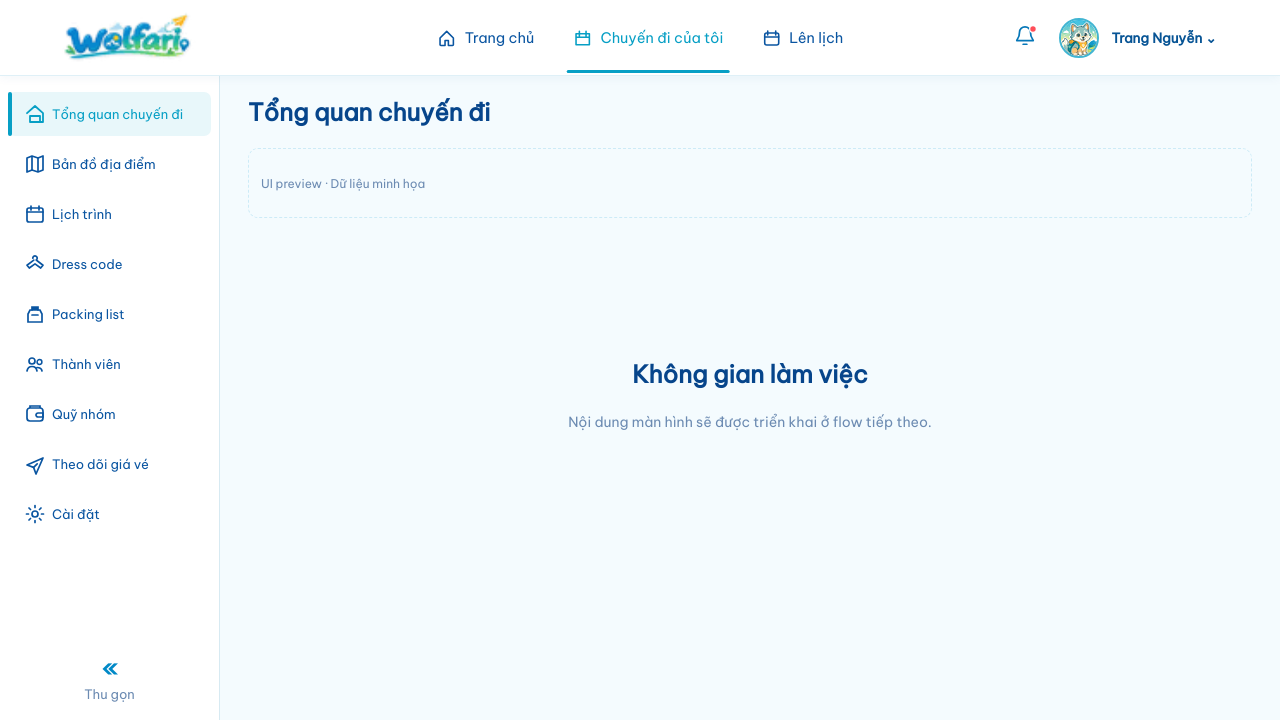
it: Shell interactions › toggles sidebar and changes section without claiming a mutation
Expected: the text "Trang Nguyễn ⌄" is shown, [1111,28,1217,48]
Click the link "Packing list" at (110, 314), box [8,292,211,336]
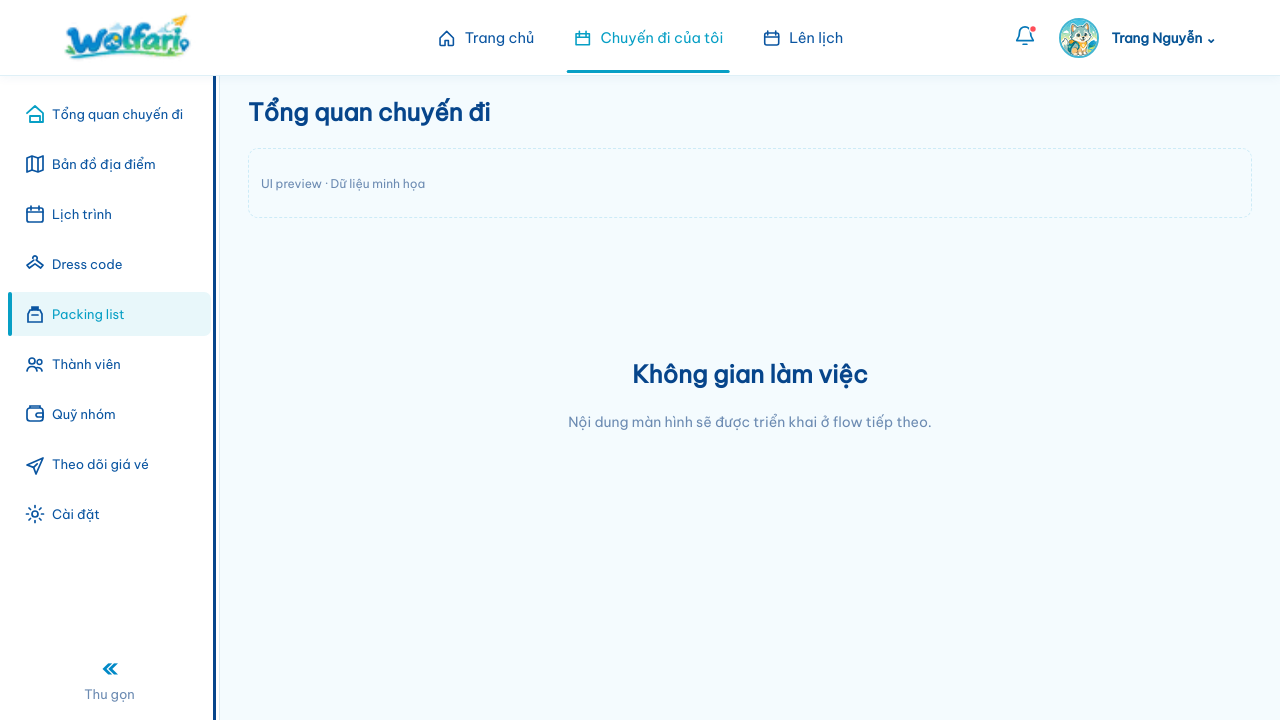
Click the link "Quỹ nhóm" at (110, 414), box [8,392,211,436]
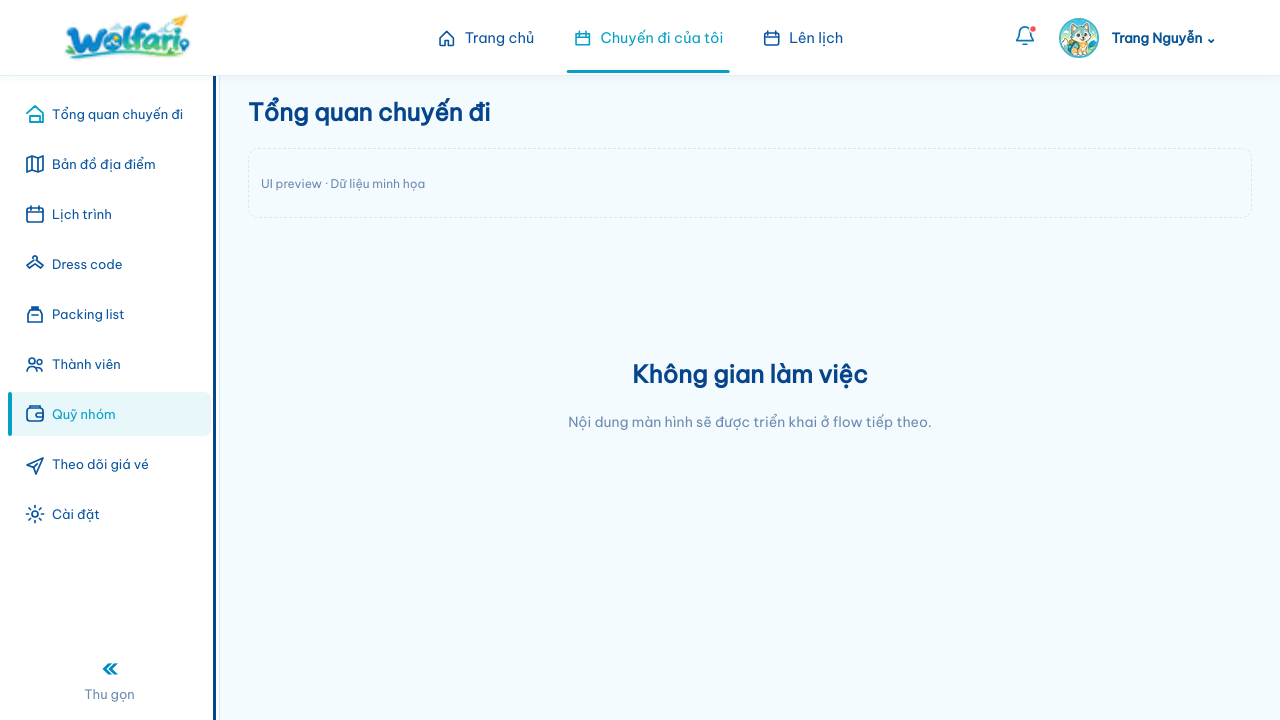
Click the link "Theo dõi giá vé" at (110, 464), box [8,442,211,486]
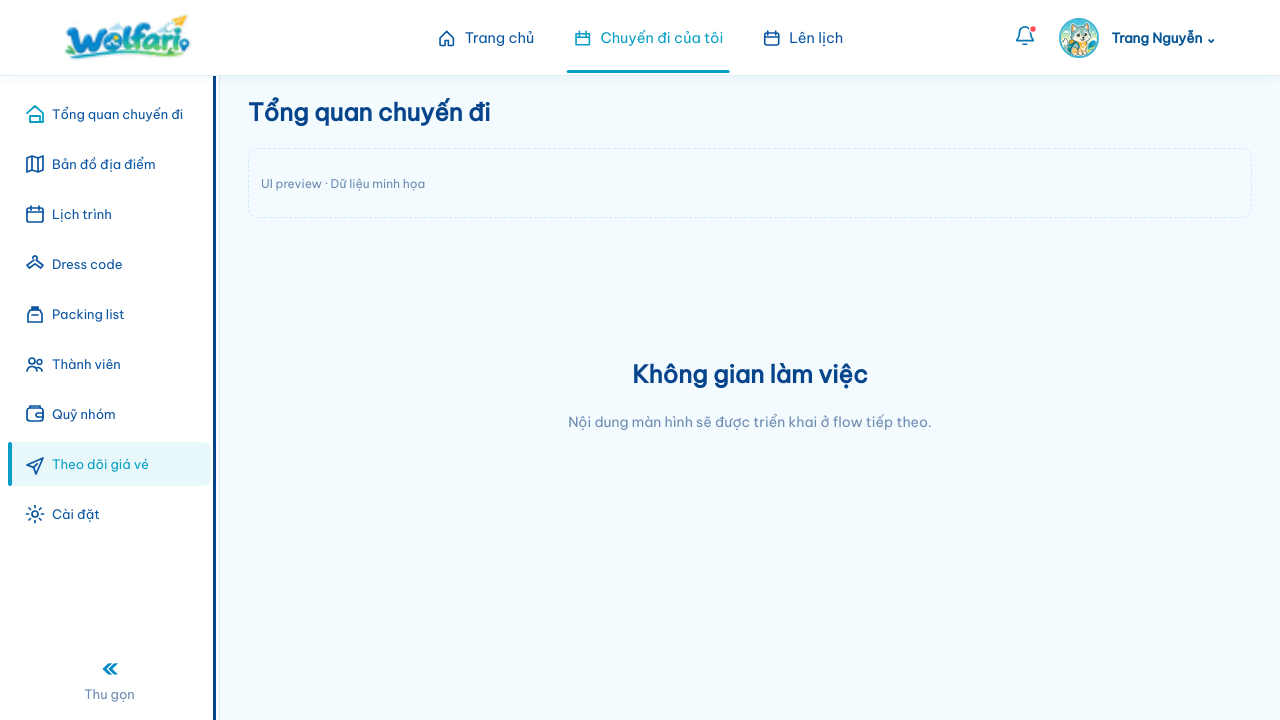
Click the link "Cài đặt" at (110, 514), box [8,492,211,536]
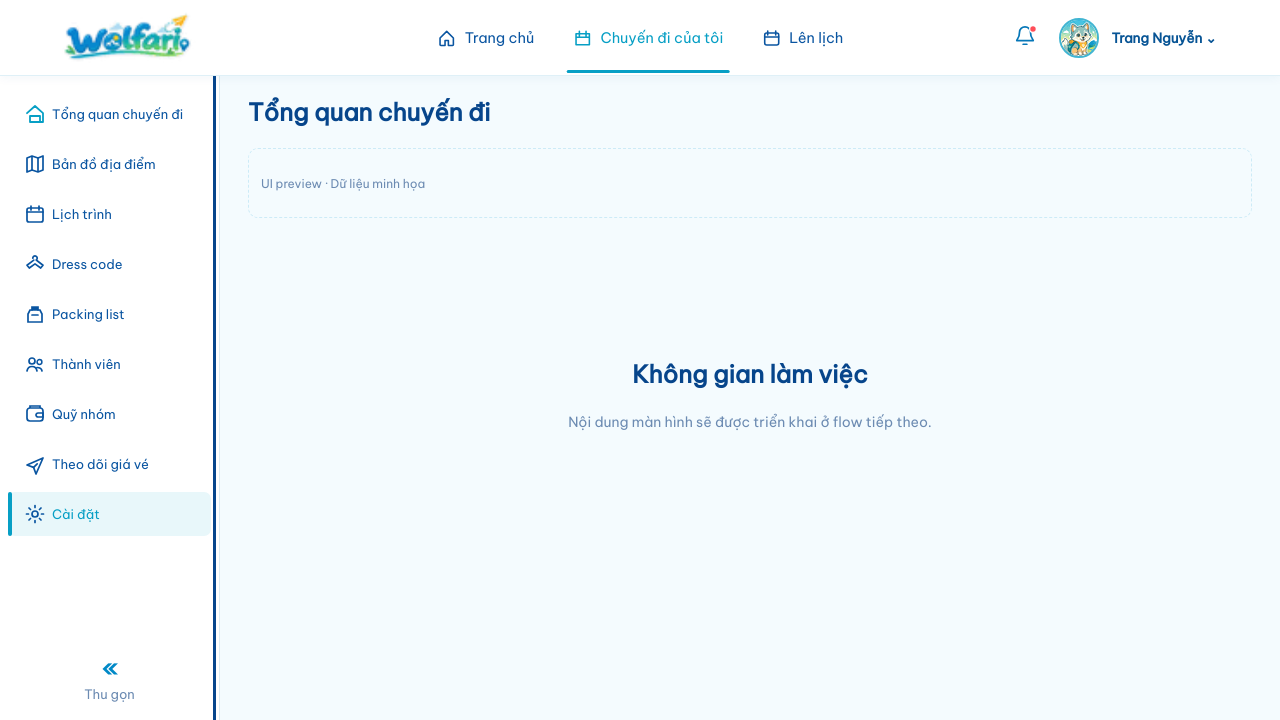
Click the button named "Thu gọn thanh điều hướng" at (110, 678), box [8,652,211,704]
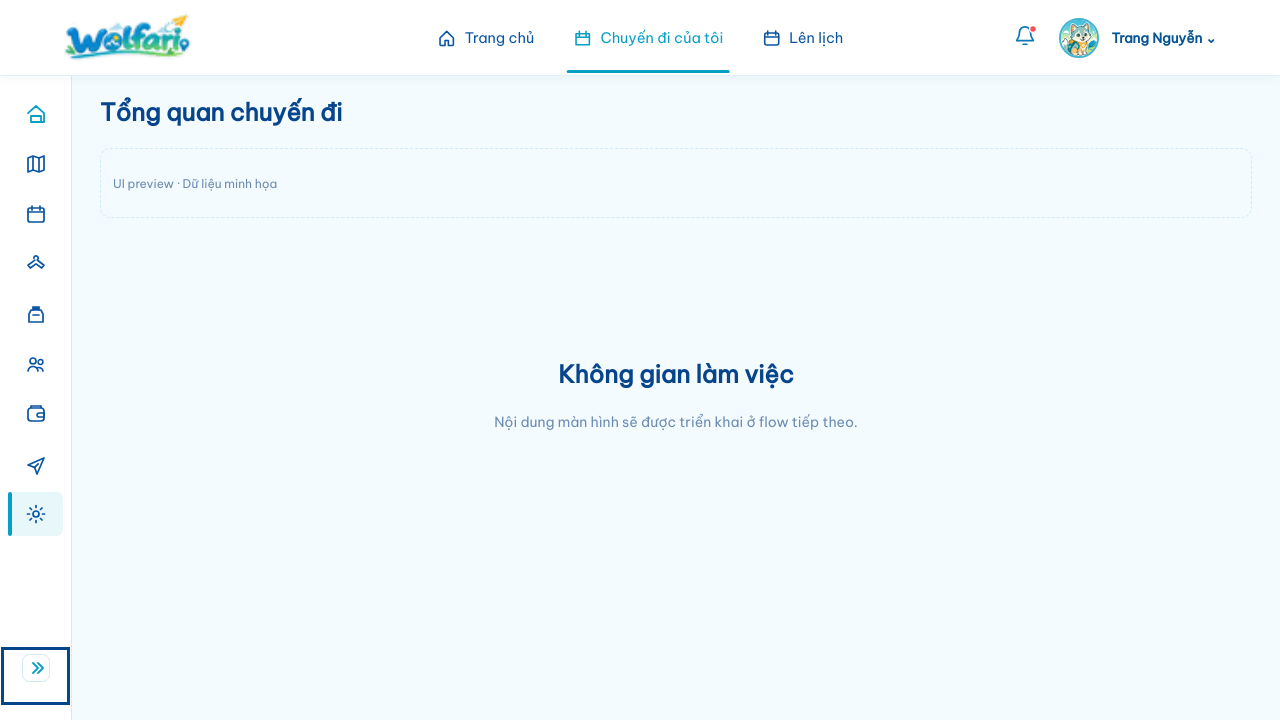
Expected: the text "đã lưu" is not shown
Expected: the button named "Mở rộng thanh điều hướng" is collapsed, [8,654,63,698]
